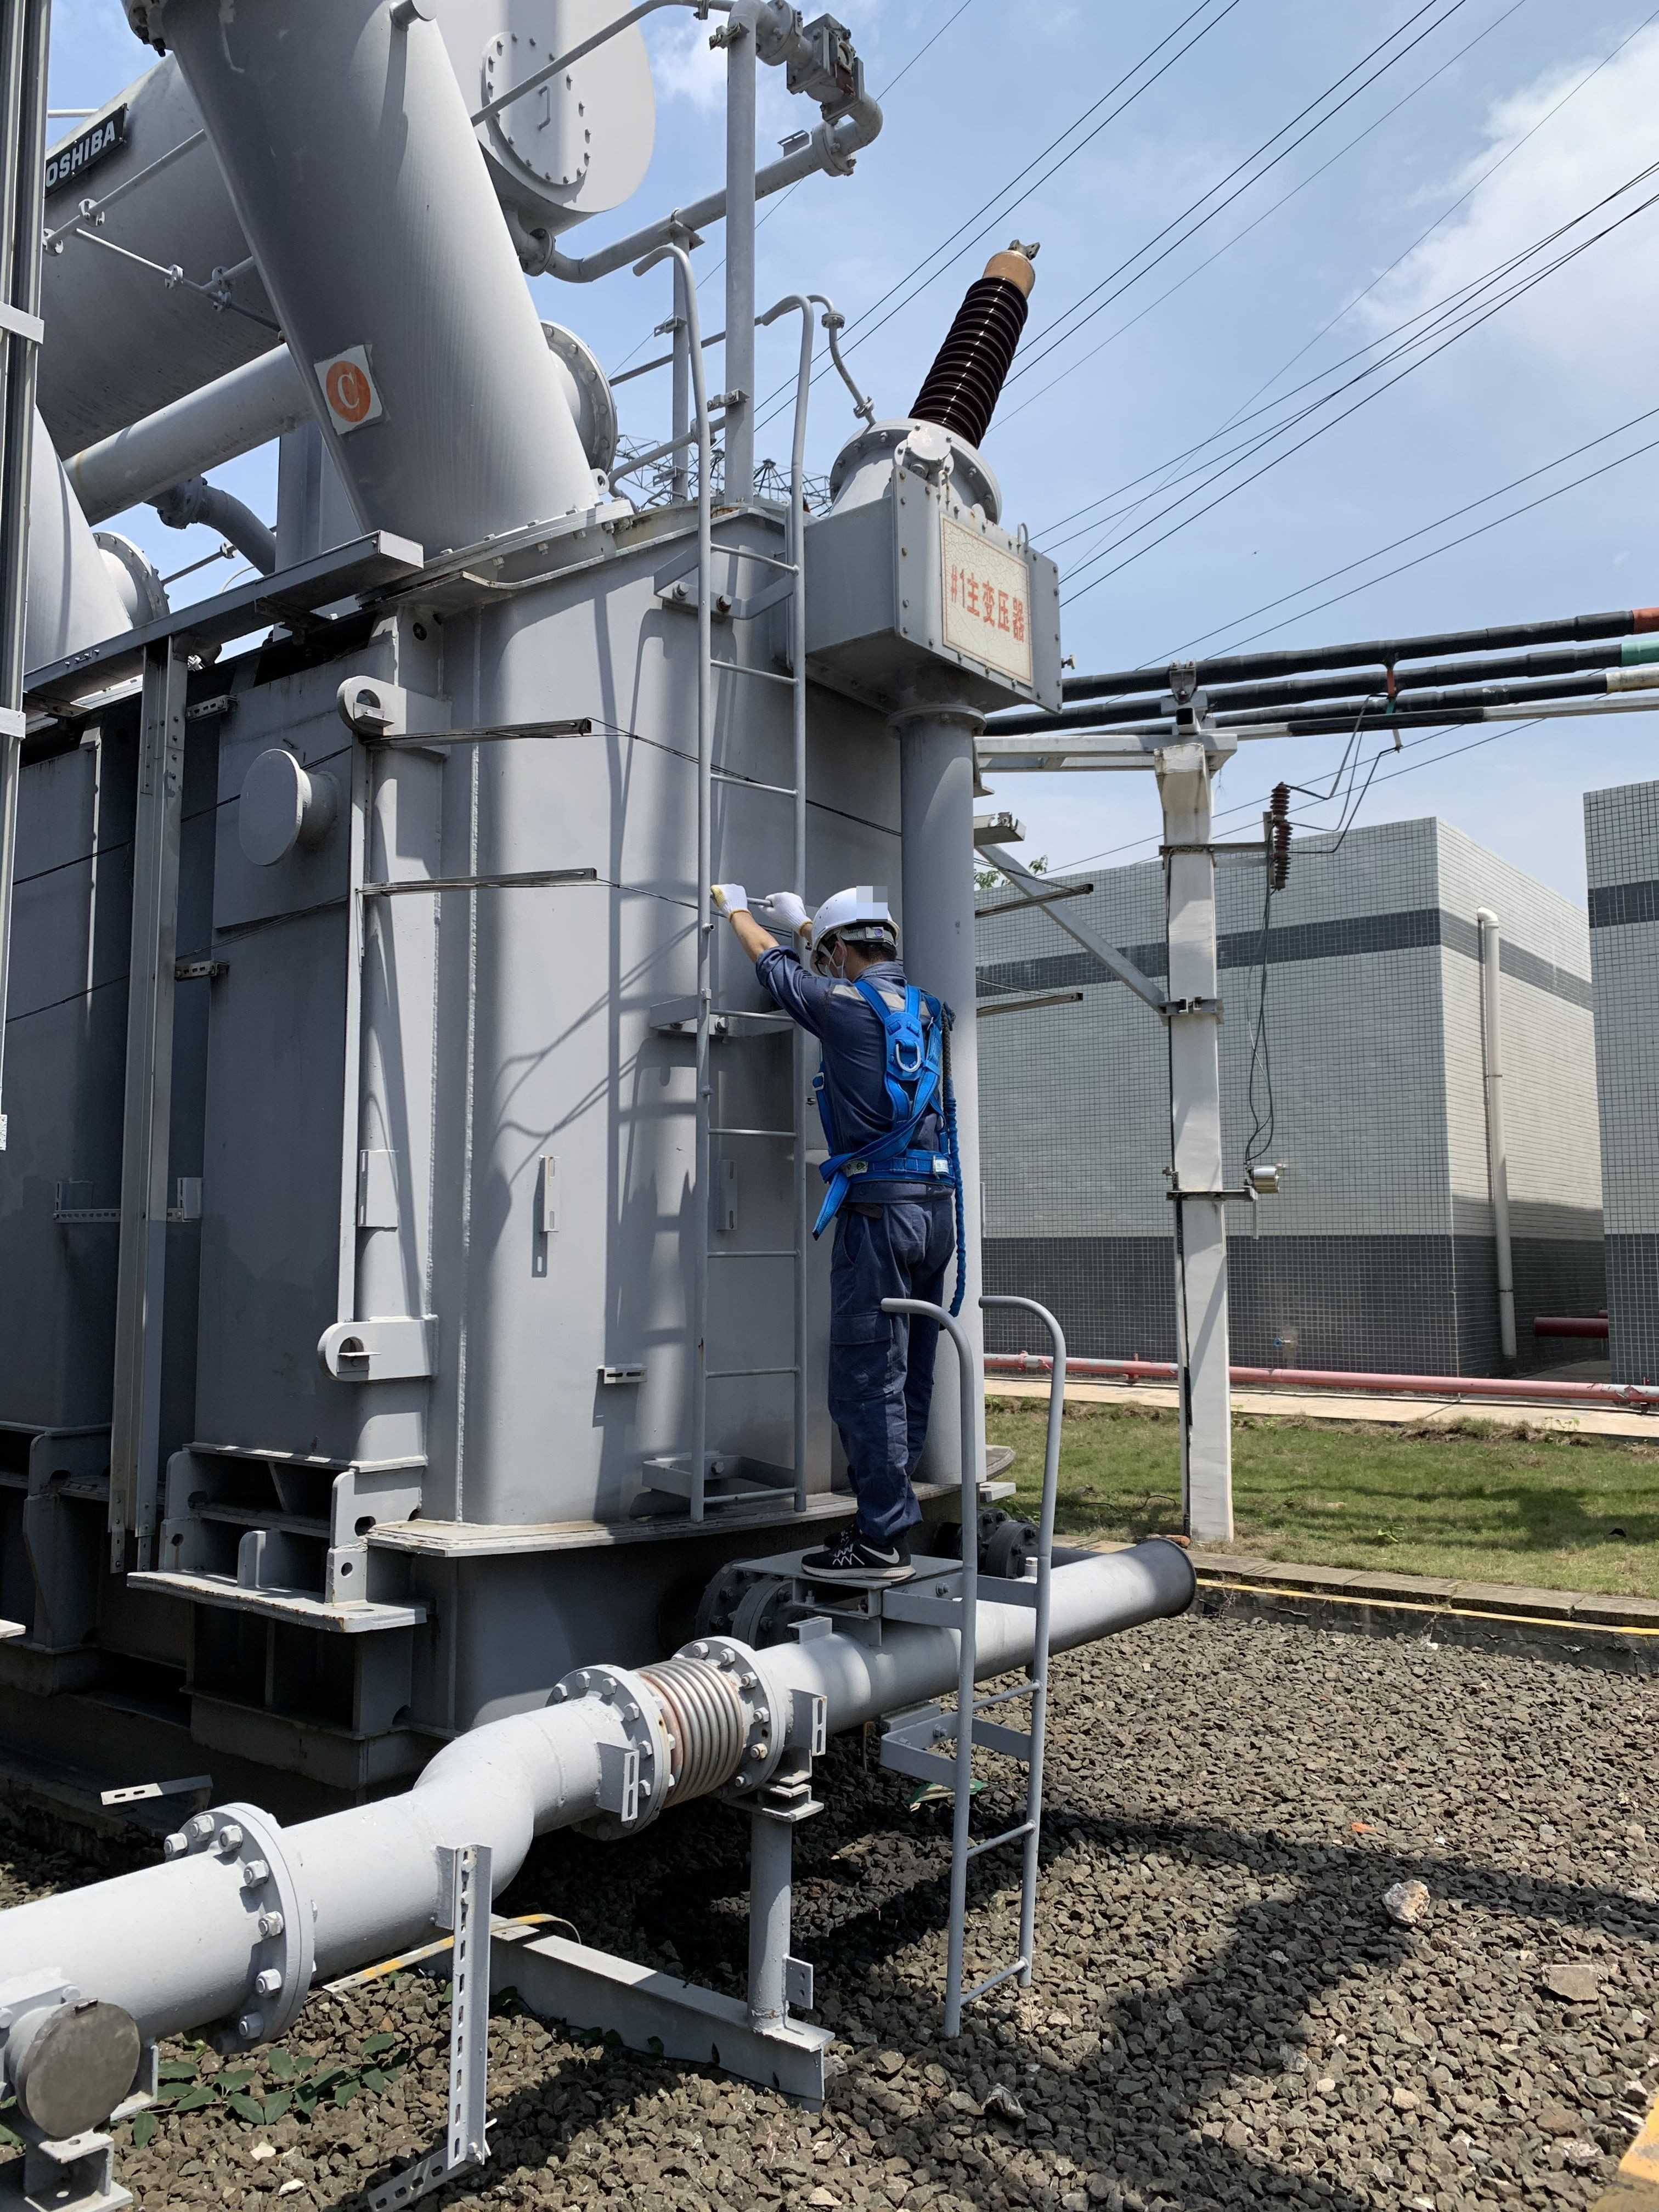downsuit: (814, 1205, 974, 1536)
upsuit: (772, 958, 962, 1163)
wrongtop: (723, 906, 802, 991)
